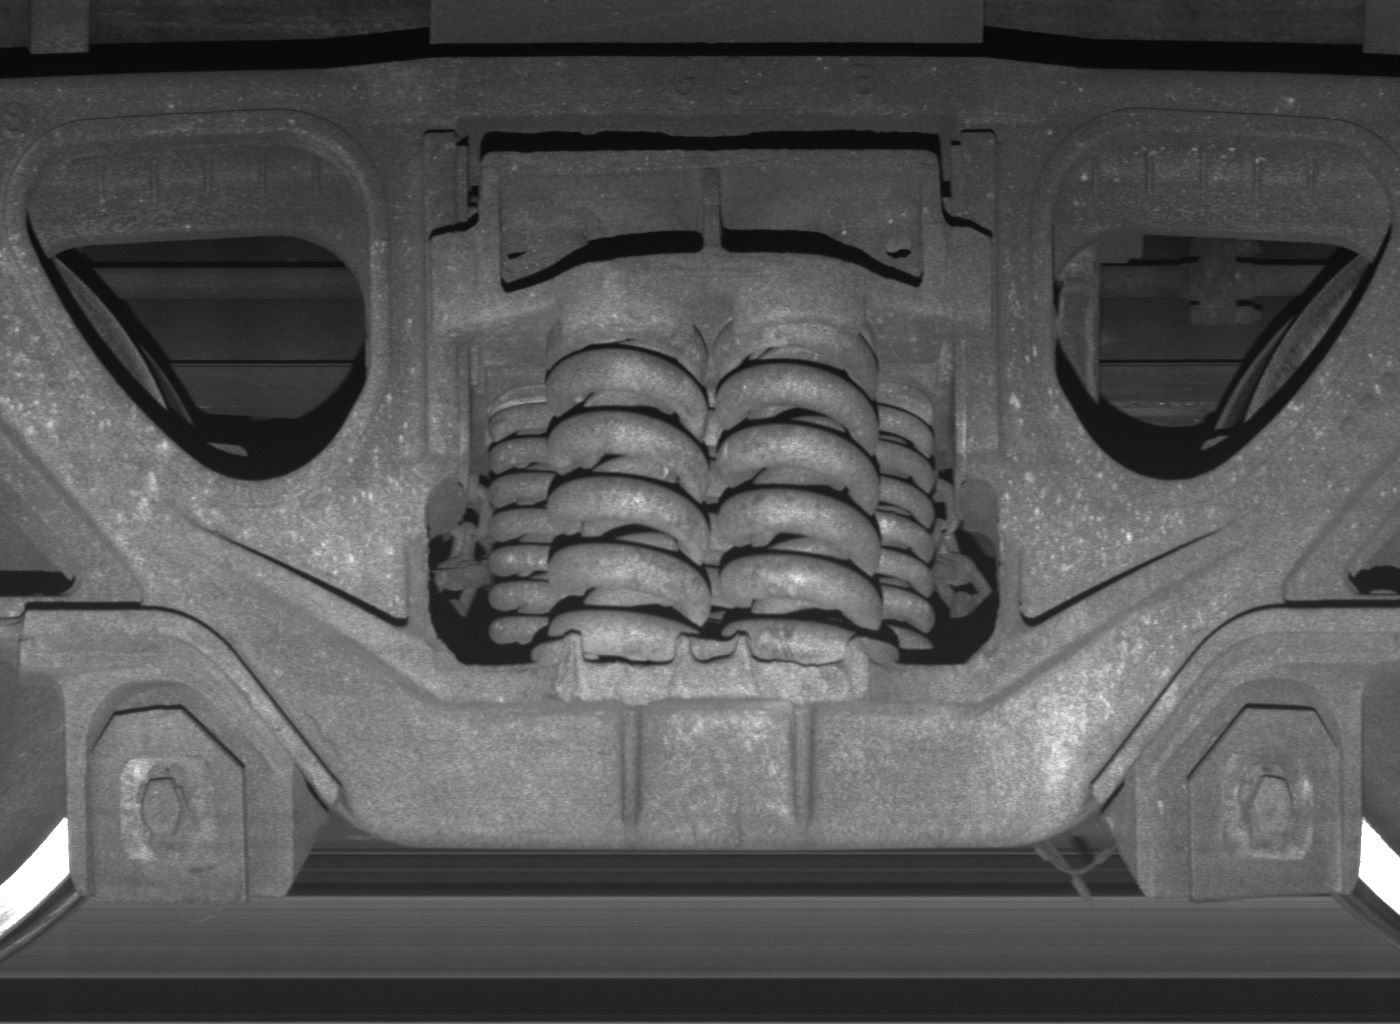normal: (1139, 673, 1361, 908), (68, 677, 293, 904)
